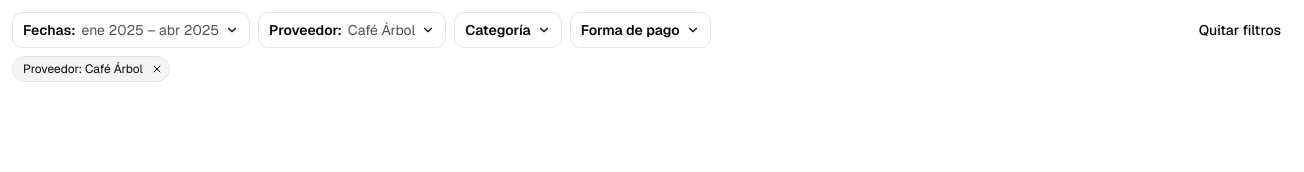
Test case: FilterBar reset › appears when some filter differs from the default and restores them all
Step 1. Click the button "Quitar filtros" → (1240, 30), box [1188,12,1292,48]
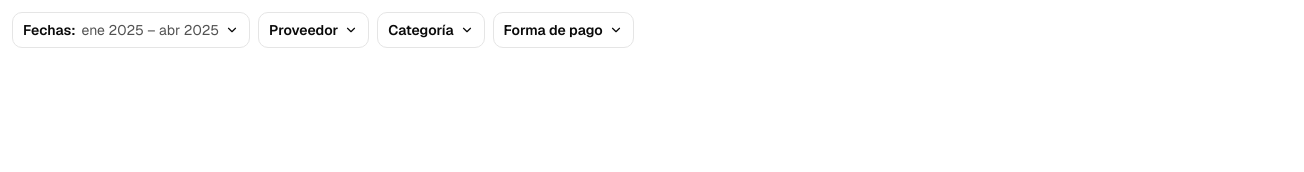
Result: the button "Quitar filtros" is gone
